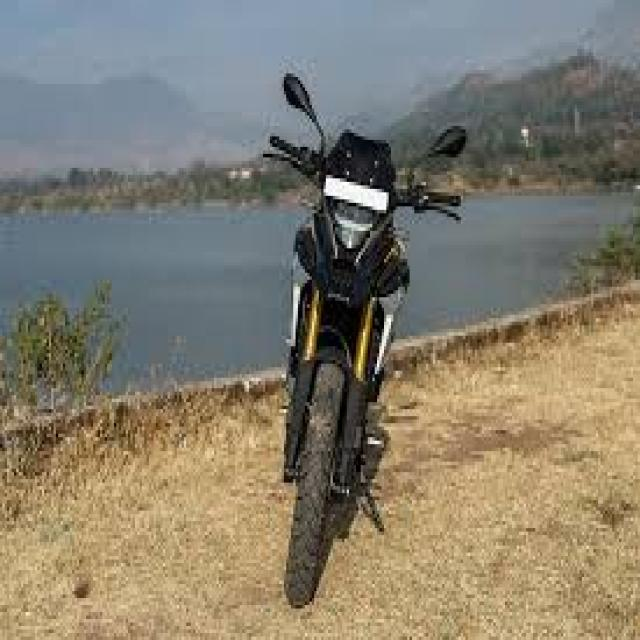bike: (262, 73, 464, 608)
